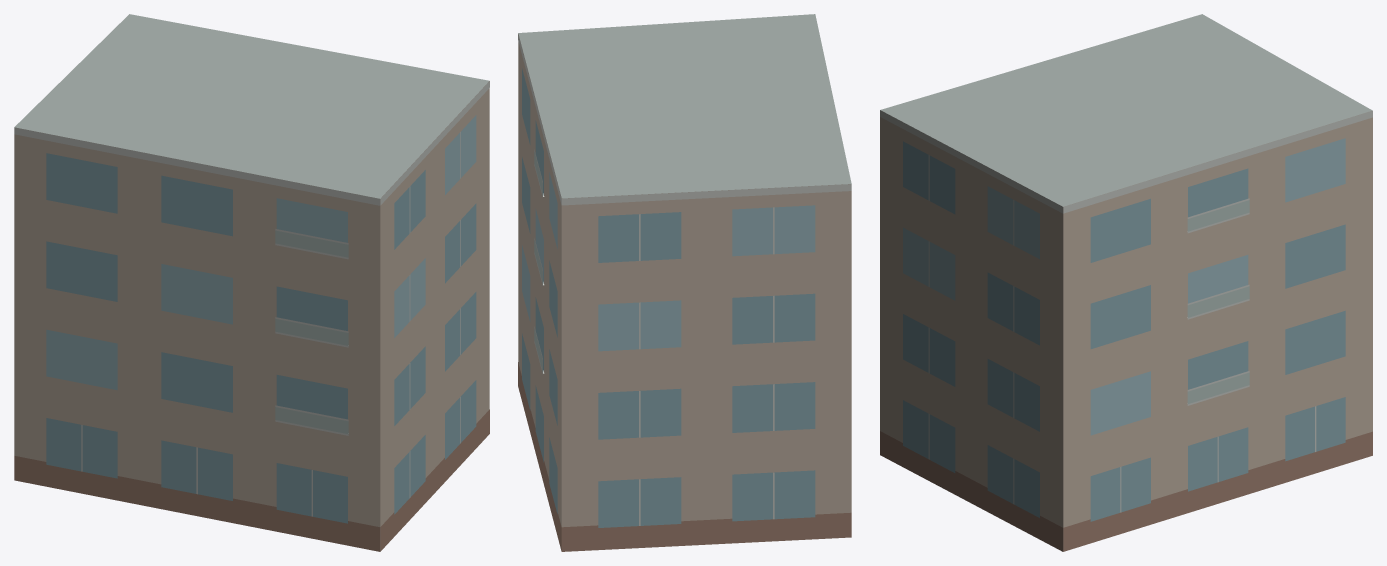
Rendered from survey-upis-33036033.glb.
The picture shows the model from 3 angles, left to right: view 1: azimuth 30°, elevation 25°; view 2: azimuth 150°, elevation 25°; view 3: azimuth 270°, elevation 25°; orthographic projection. The views are drawn at different scales.
Parts seen in each view (by area): view 1: survey-upis-33036033.tmp; view 2: survey-upis-33036033.tmp; view 3: survey-upis-33036033.tmp.
Boxes of the visible parts, x1,y1,x2,y2 form: survey-upis-33036033.tmp: (14, 14, 489, 551); survey-upis-33036033.tmp: (518, 14, 851, 551); survey-upis-33036033.tmp: (880, 14, 1372, 551).
Size of the model in its own units: 14.63 by 12.2 by 15.8.
